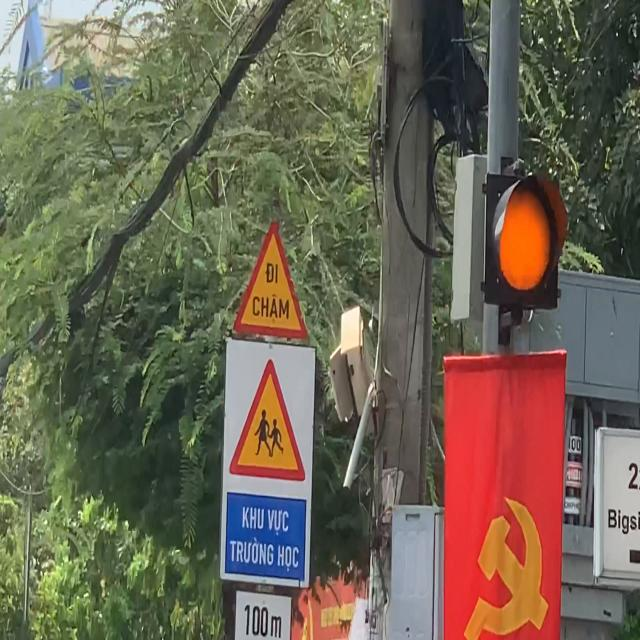Nguy hiem: (228, 355, 310, 486), (230, 216, 313, 341)
